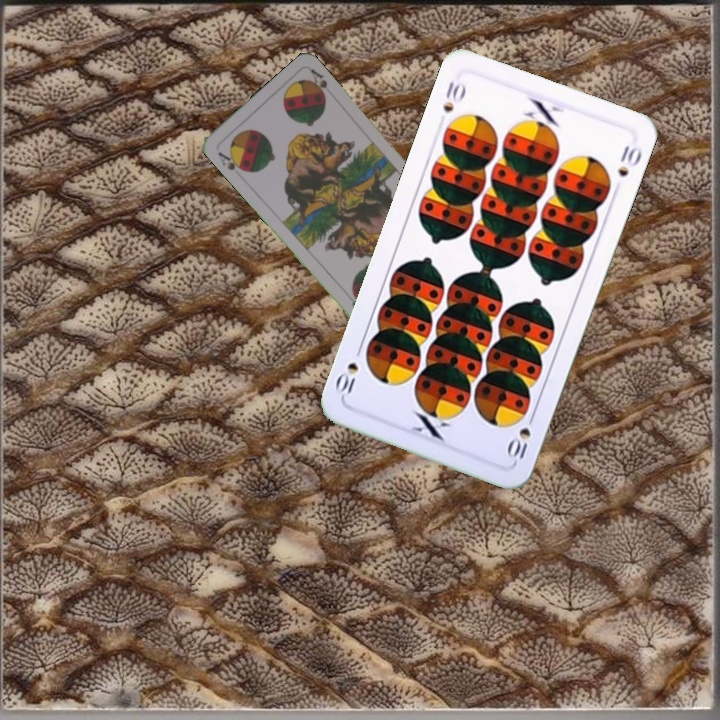S10: (504, 408, 538, 465), (439, 76, 469, 115)
SA: (214, 147, 249, 174)
